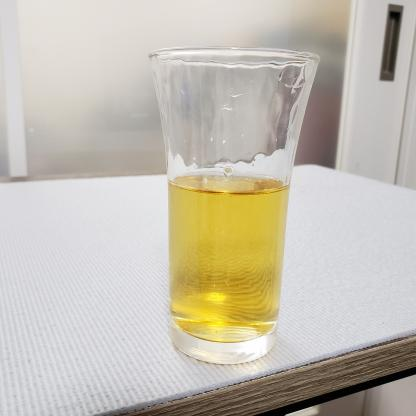glass: (145, 37, 321, 367)
